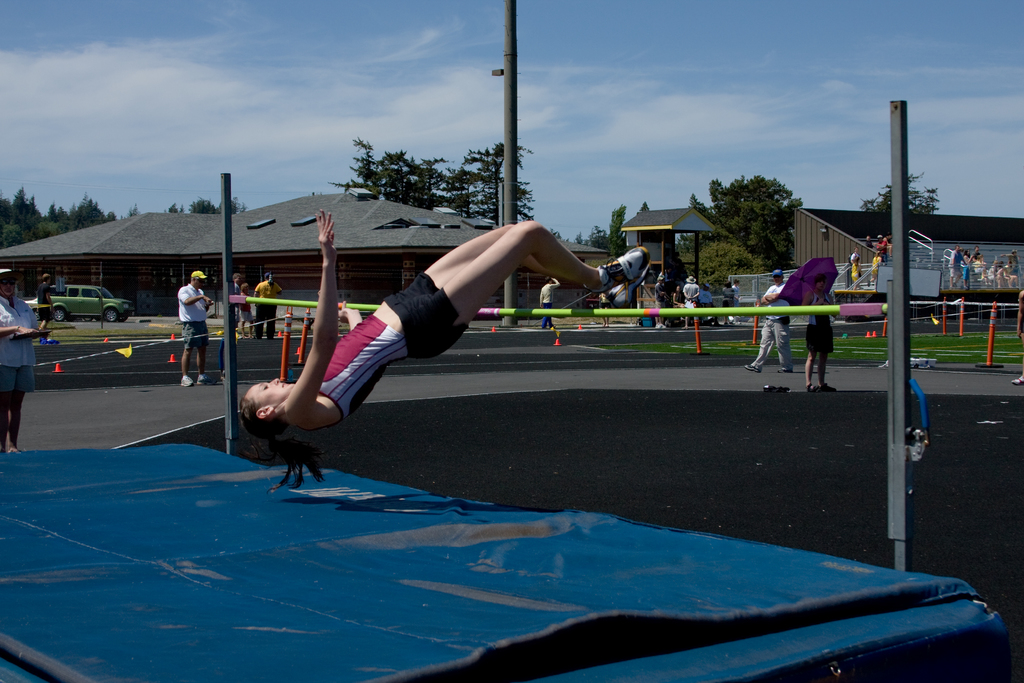Person: (230, 202, 653, 509), (849, 219, 1021, 300), (597, 262, 749, 331), (0, 264, 51, 453), (741, 262, 799, 375), (799, 270, 839, 401), (175, 266, 208, 396), (31, 264, 58, 356), (252, 268, 279, 343), (536, 271, 561, 331), (1010, 287, 1024, 387), (237, 278, 256, 342), (229, 270, 241, 338)
